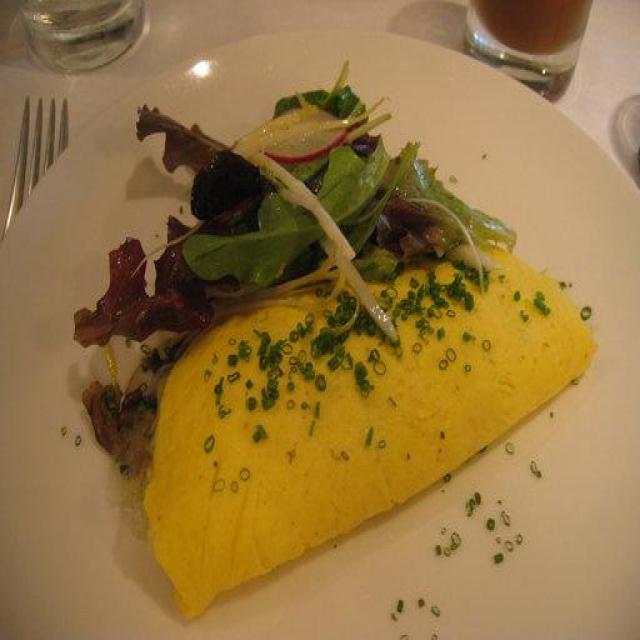food_waste: (123, 129, 418, 530), (83, 348, 480, 541), (304, 238, 590, 404)
